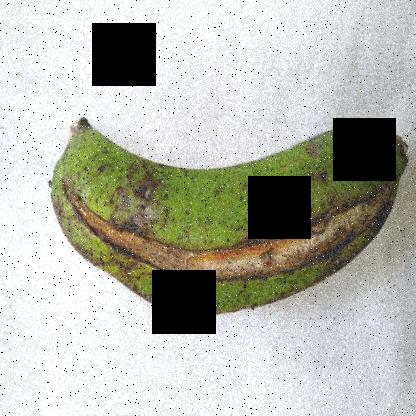rotten: (64, 158, 402, 306)
